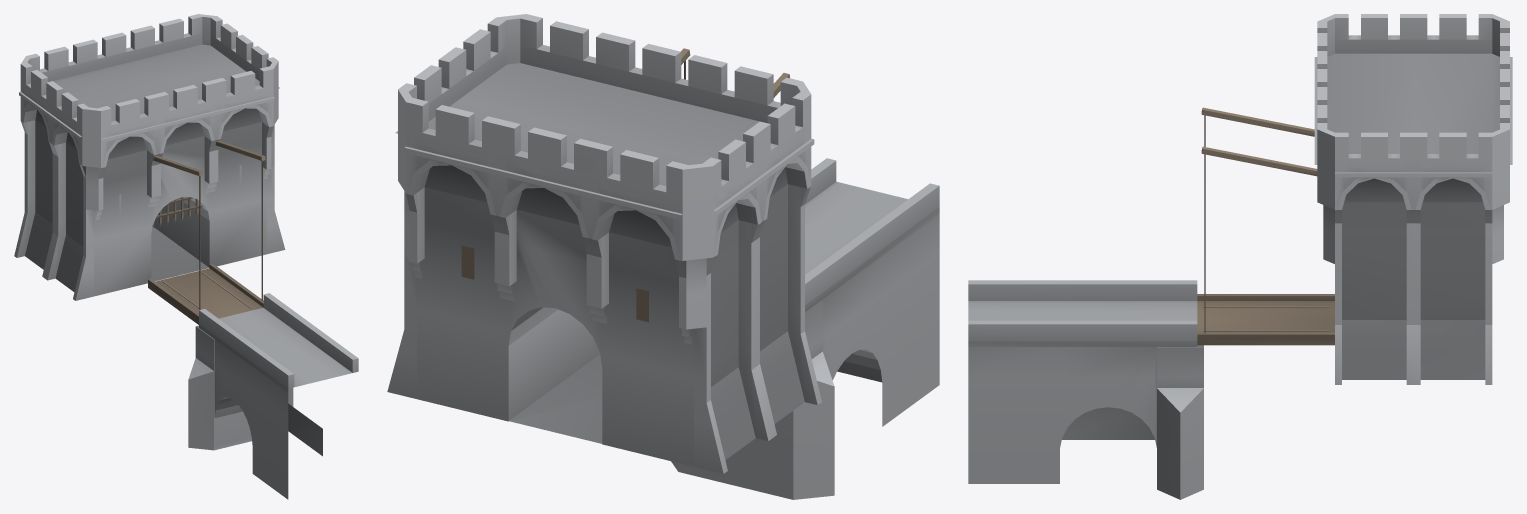
Rendered from sg_barbican.glb.
3 views of the same model, side by side, from view 1: azimuth 30°, elevation 25°; view 2: azimuth 150°, elevation 25°; view 3: azimuth 270°, elevation 25° (orthographic). The views are drawn at different scales.
Parts seen in each view (by area): view 1: sg_barbican_SG_Stone, sg_barbican_SG_Joinery; view 2: sg_barbican_SG_Stone, sg_barbican_SG_Joinery; view 3: sg_barbican_SG_Stone, sg_barbican_SG_Joinery.
Part boxes in pixels (x1,y1,x2,y2): sg_barbican_SG_Stone: [14, 14, 358, 499]; sg_barbican_SG_Joinery: [148, 140, 265, 324]; sg_barbican_SG_Stone: [387, 14, 939, 499]; sg_barbican_SG_Joinery: [461, 48, 789, 322]; sg_barbican_SG_Stone: [968, 14, 1512, 499]; sg_barbican_SG_Joinery: [1197, 107, 1334, 345].
Size of the model in its own units: 15.8 by 22 by 27.71.
